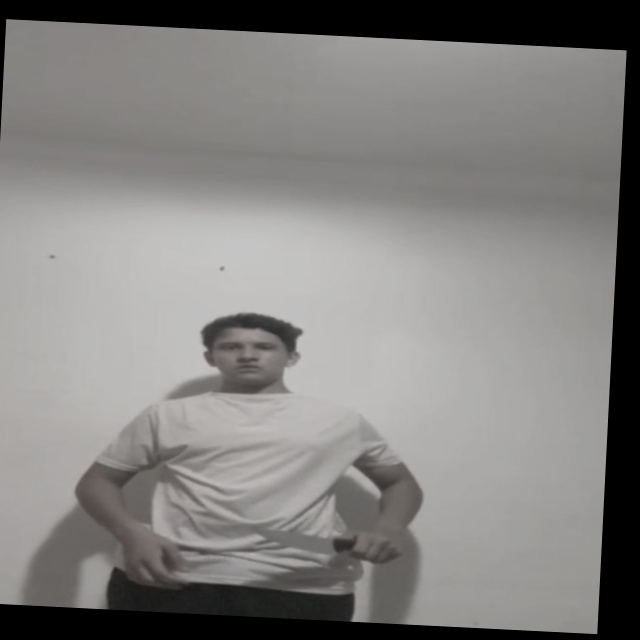Sharp-Object: (255, 528, 332, 553)
